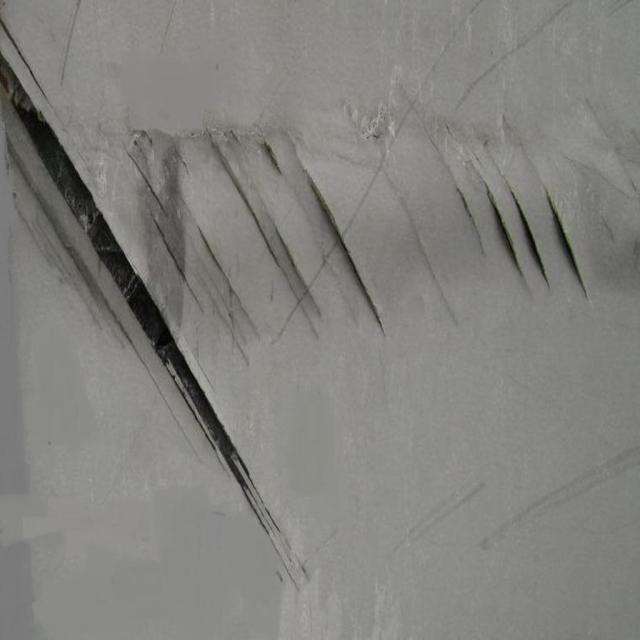crack: (7, 52, 289, 562), (459, 166, 594, 311), (309, 174, 387, 320)
